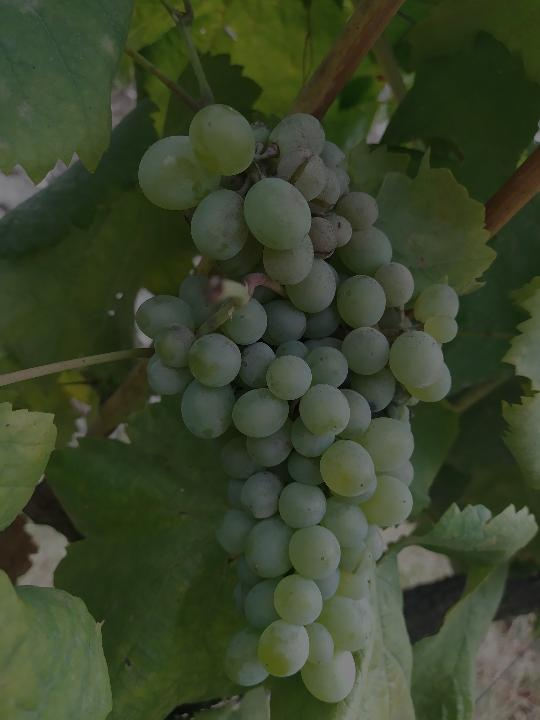grape: (132, 99, 465, 706)
